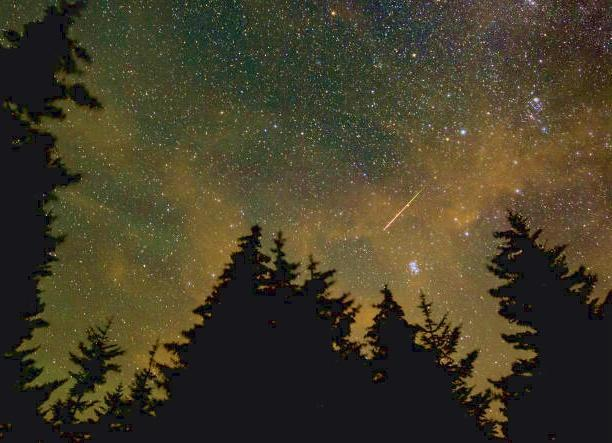meteorite: (384, 164, 431, 240)
